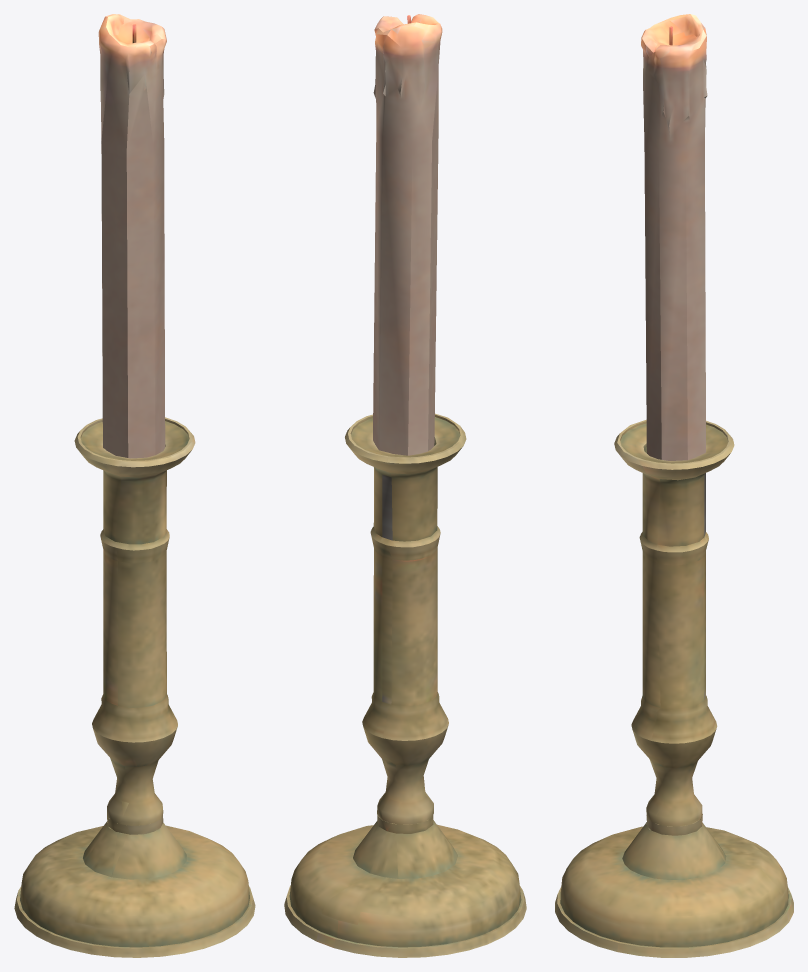
Rendered from candlestick-brass-e.glb.
3 renders of one model, left to right at view 1: azimuth 30°, elevation 25°; view 2: azimuth 150°, elevation 25°; view 3: azimuth 270°, elevation 25°, orthographic.
Parts seen in each view (by area): view 1: candlestick-brass-e; view 2: candlestick-brass-e; view 3: candlestick-brass-e.
Part boxes in pixels (left/top/right/bottom): candlestick-brass-e: left=14, top=14, right=255, bottom=957; candlestick-brass-e: left=284, top=14, right=526, bottom=957; candlestick-brass-e: left=555, top=14, right=793, bottom=957.
Bounding box in the file's own units: 0.0797 × 0.3252 × 0.0797.
Materials: 1 (1 with a texture image).
